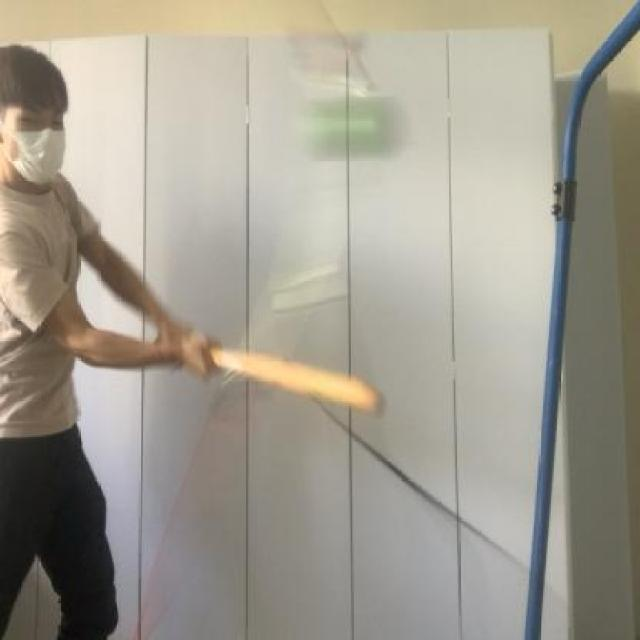baseball: (286, 90, 412, 168)
